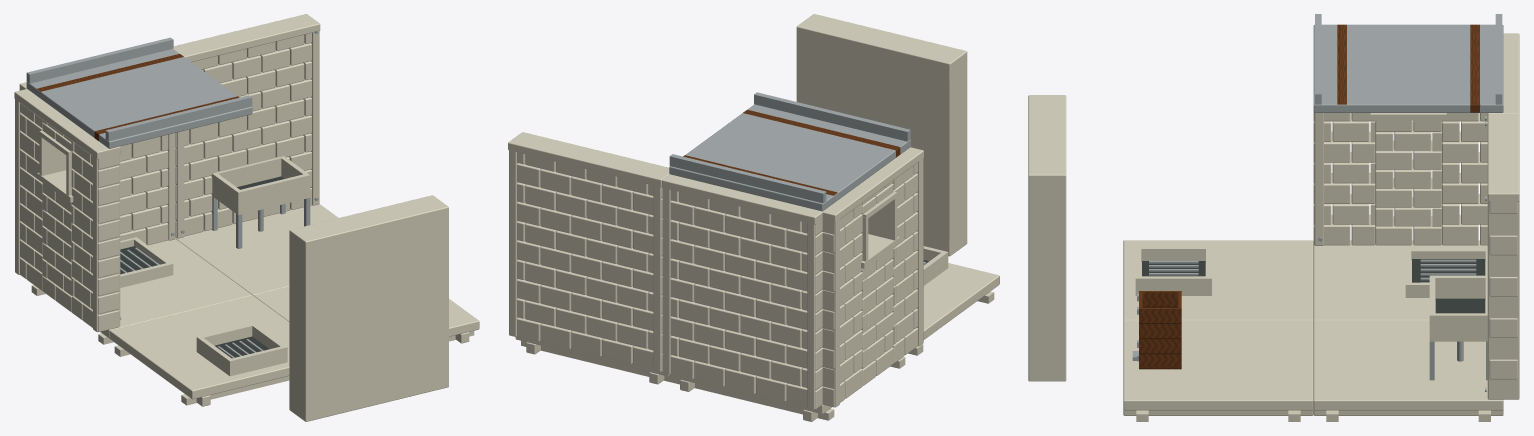
File: bunker-shelter-construction-construction-and-service-c-e15ec170__23399.glb
3 views of the same model, side by side, from view 1: azimuth 30°, elevation 25°; view 2: azimuth 150°, elevation 25°; view 3: azimuth 270°, elevation 25° (orthographic). The views are drawn at different scales.
Parts seen in each view (by area): view 1: 012-entry-blast-baffle/0, 005-modular-survival-base-builder--wall-rubble-masonry/0, 006-shelter-vent-wall/0, 007-flat-ceiling/0, 001-shelter-floor-slab/0, 002-shelter-floor-slab/0, 000-shelter-floor-slab/0, 004-modular-survival-base-builder--wall-rubble-masonry/0, 008-utility-wash-tub/0, 011-greywater-sump/0, 003-shelter-floor-slab/0, 009-shower-tray/0 (+4 smaller); view 2: 004-modular-survival-base-builder--wall-rubble-masonry/0, 005-modular-survival-base-builder--wall-rubble-masonry/0, 012-entry-blast-baffle/0, 006-shelter-vent-wall/0, 007-flat-ceiling/0, 001-shelter-floor-slab/0, 000-shelter-floor-slab/0, 002-shelter-floor-slab/0, 007-flat-ceiling/1, 011-greywater-sump/0; view 3: 006-shelter-vent-wall/0, 003-shelter-floor-slab/0, 002-shelter-floor-slab/0, 007-flat-ceiling/0, 012-entry-blast-baffle/0, 001-shelter-floor-slab/0, 005-modular-survival-base-builder--wall-rubble-masonry/0, 000-shelter-floor-slab/0, 010-waste-bin-foot-pedal/0, 008-utility-wash-tub/0, 011-greywater-sump/0, 007-flat-ceiling/1 (+8 smaller).
Boxes of the visible parts, x1=… form: 012-entry-blast-baffle/0: x1=289, y1=195, x2=448, y2=421; 005-modular-survival-base-builder--wall-rubble-masonry/0: x1=173, y1=14, x2=320, y2=238; 006-shelter-vent-wall/0: x1=14, y1=89, x2=120, y2=332; 007-flat-ceiling/0: x1=26, y1=37, x2=252, y2=148; 001-shelter-floor-slab/0: x1=109, y1=295, x2=289, y2=406; 002-shelter-floor-slab/0: x1=175, y1=204, x2=338, y2=295; 000-shelter-floor-slab/0: x1=31, y1=239, x2=252, y2=344; 004-modular-survival-base-builder--wall-rubble-masonry/0: x1=19, y1=82, x2=175, y2=244; 008-utility-wash-tub/0: x1=211, y1=156, x2=310, y2=215; 011-greywater-sump/0: x1=196, y1=323, x2=287, y2=376; 003-shelter-floor-slab/0: x1=253, y1=286, x2=479, y2=343; 009-shower-tray/0: x1=120, y1=237, x2=173, y2=287; 004-modular-survival-base-builder--wall-rubble-masonry/0: x1=662, y1=174, x2=822, y2=409; 005-modular-survival-base-builder--wall-rubble-masonry/0: x1=508, y1=132, x2=669, y2=372; 012-entry-blast-baffle/0: x1=796, y1=14, x2=967, y2=256; 006-shelter-vent-wall/0: x1=822, y1=147, x2=923, y2=407; 007-flat-ceiling/0: x1=669, y1=92, x2=910, y2=211; 001-shelter-floor-slab/0: x1=908, y1=263, x2=999, y2=355; 000-shelter-floor-slab/0: x1=669, y1=357, x2=905, y2=421; 002-shelter-floor-slab/0: x1=515, y1=336, x2=674, y2=384; 007-flat-ceiling/1: x1=683, y1=110, x2=900, y2=195; 011-greywater-sump/0: x1=923, y1=246, x2=948, y2=285; 006-shelter-vent-wall/0: x1=1313, y1=112, x2=1487, y2=245; 003-shelter-floor-slab/0: x1=1123, y1=320, x2=1313, y2=421; 002-shelter-floor-slab/0: x1=1313, y1=320, x2=1503, y2=421; 007-flat-ceiling/0: x1=1313, y1=14, x2=1503, y2=112; 012-entry-blast-baffle/0: x1=1028, y1=95, x2=1066, y2=381; 001-shelter-floor-slab/0: x1=1123, y1=240, x2=1313, y2=320; 005-modular-survival-base-builder--wall-rubble-masonry/0: x1=1487, y1=113, x2=1519, y2=399; 000-shelter-floor-slab/0: x1=1313, y1=240, x2=1487, y2=320; 010-waste-bin-foot-pedal/0: x1=1139, y1=291, x2=1181, y2=369; 008-utility-wash-tub/0: x1=1429, y1=275, x2=1487, y2=341; 011-greywater-sump/0: x1=1135, y1=246, x2=1211, y2=295; 007-flat-ceiling/1: x1=1337, y1=24, x2=1480, y2=112.
Size of the model in its own units: 4.19 by 2.87 by 5.17.
Materials: 4 (1 with a texture image).
